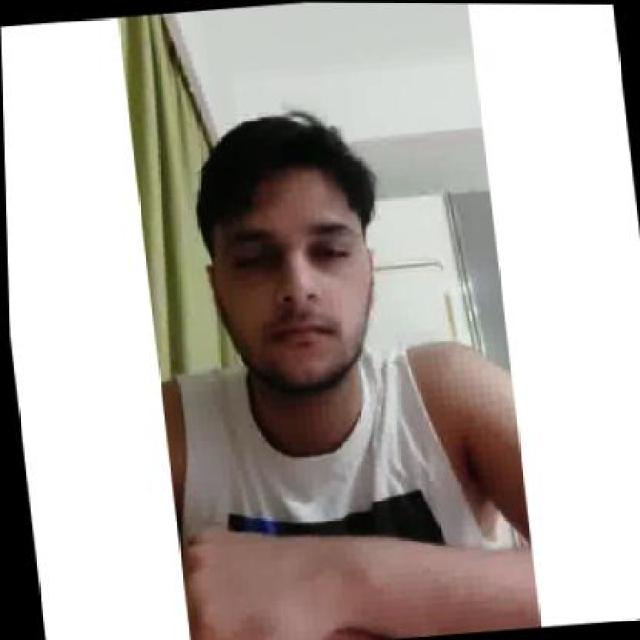inattentif: (189, 105, 389, 403)
